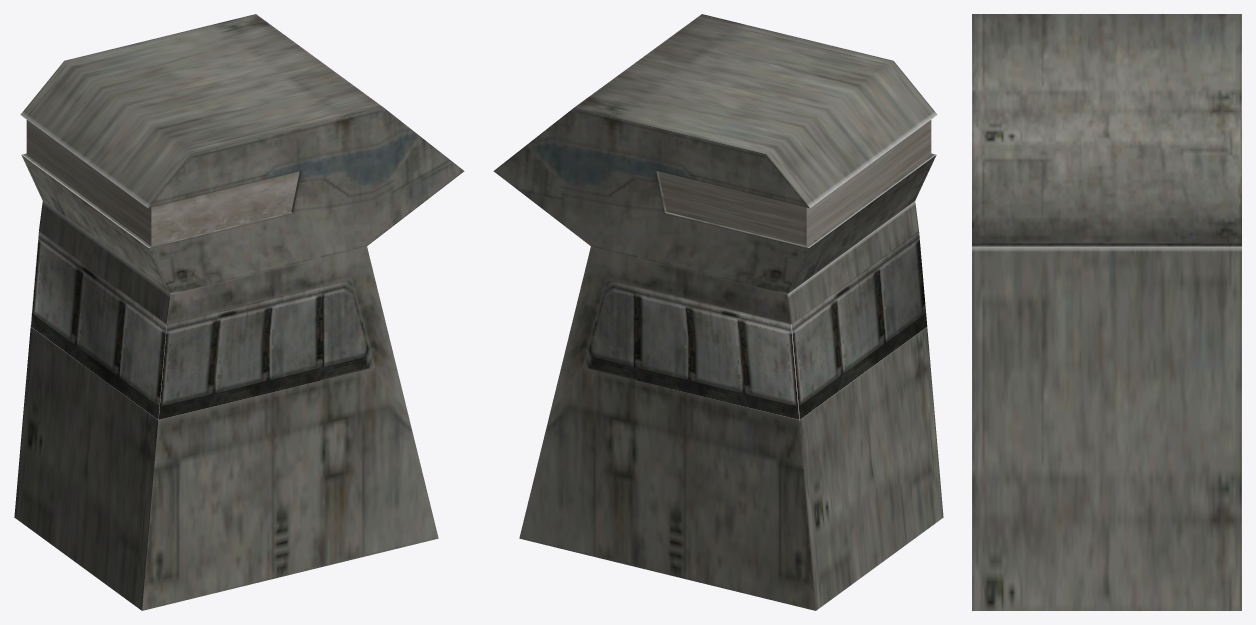
File: mun_all_military_base_lookout_s01_l4.fbx
3 views of the same model, side by side, from view 1: azimuth 30°, elevation 25°; view 2: azimuth 150°, elevation 25°; view 3: azimuth 270°, elevation 25° (orthographic). The views are drawn at different scales.
Parts seen in each view (by area): view 1: mesh_node; view 2: mesh_node; view 3: mesh_node.
Part boxes in pixels (bbox=[...]): mesh_node: bbox=[14, 14, 464, 610]; mesh_node: bbox=[493, 14, 943, 610]; mesh_node: bbox=[972, 14, 1241, 610].
Bounding box in the file's own units: 8.41 × 11.08 × 5.77.
